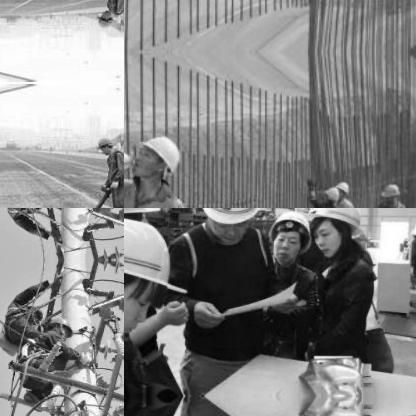Helmet: (124, 216, 182, 335), (125, 130, 183, 184), (306, 208, 365, 256), (266, 208, 310, 267), (199, 208, 259, 243), (124, 208, 161, 234), (46, 312, 69, 338), (379, 180, 401, 206), (320, 184, 338, 206), (94, 132, 112, 152), (94, 10, 112, 30), (336, 178, 348, 196)
